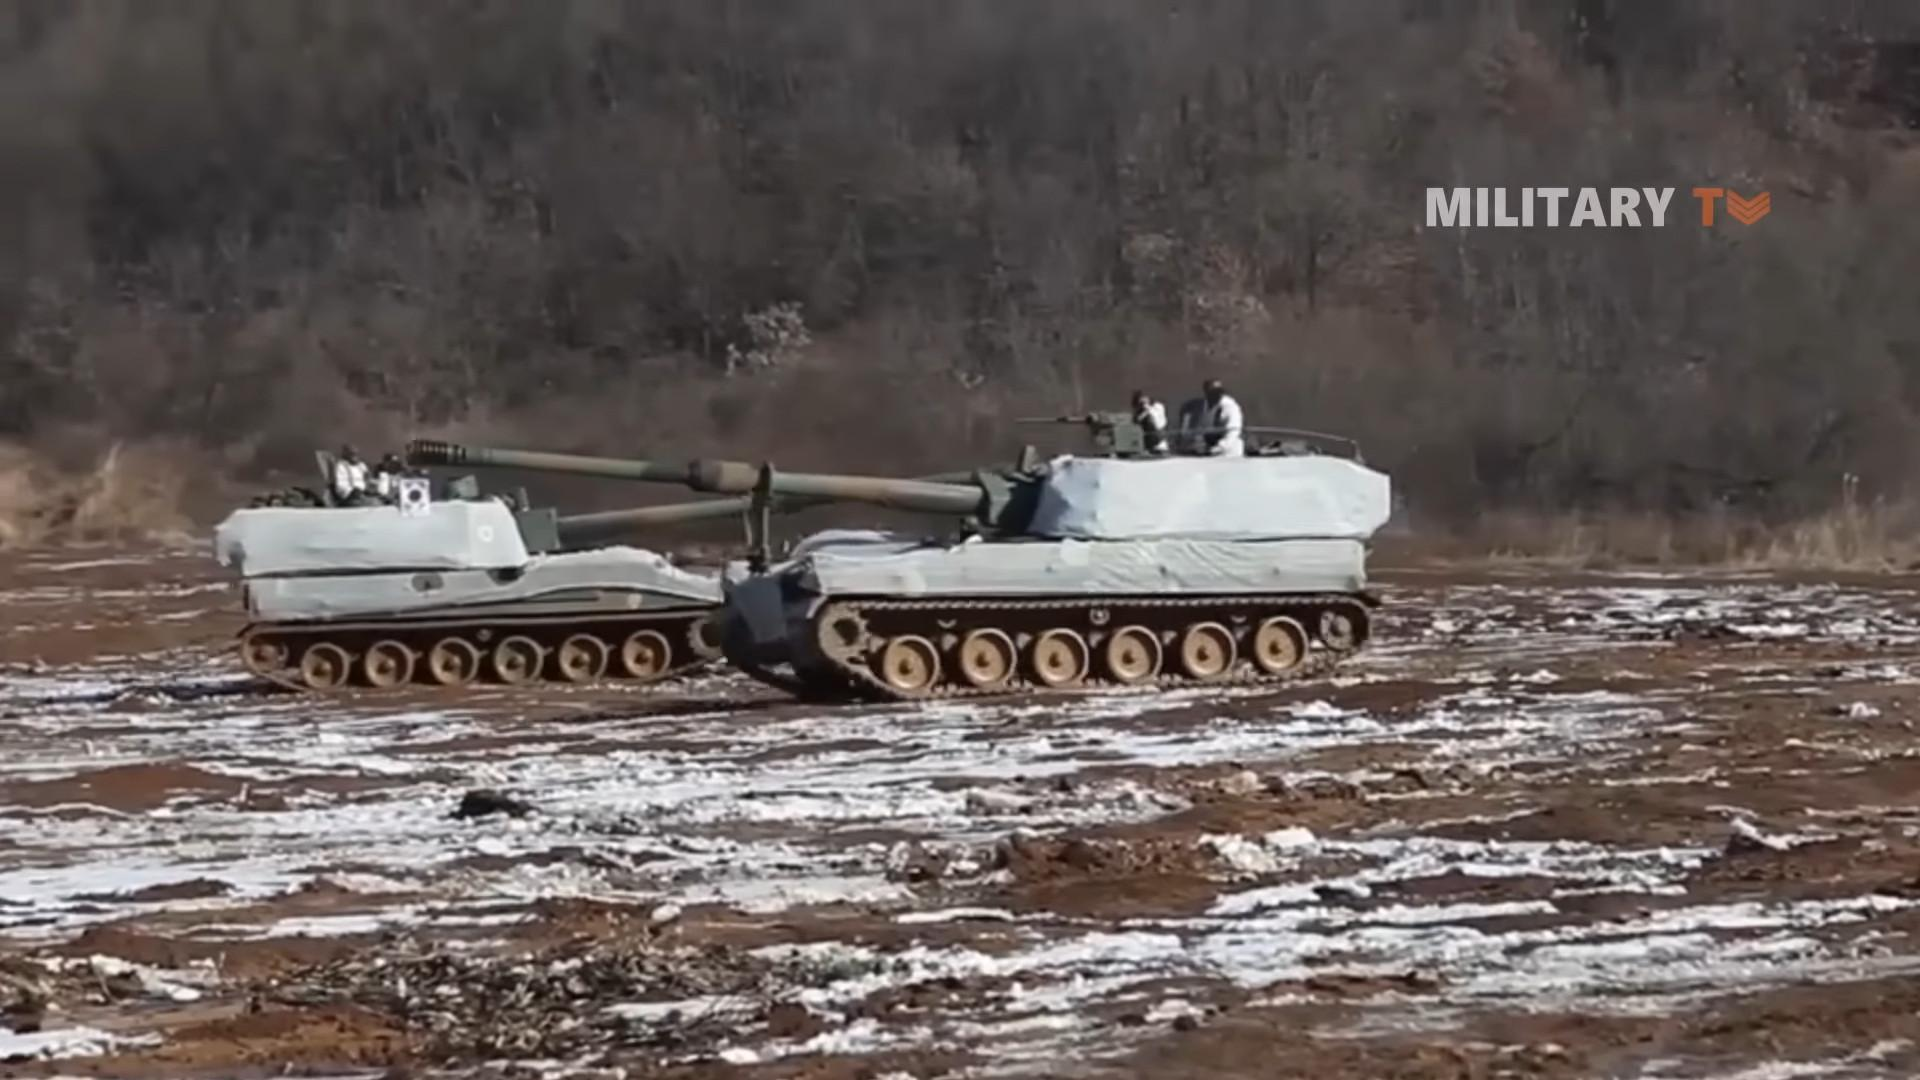tank: (410, 436, 1391, 707), (219, 487, 827, 700)
